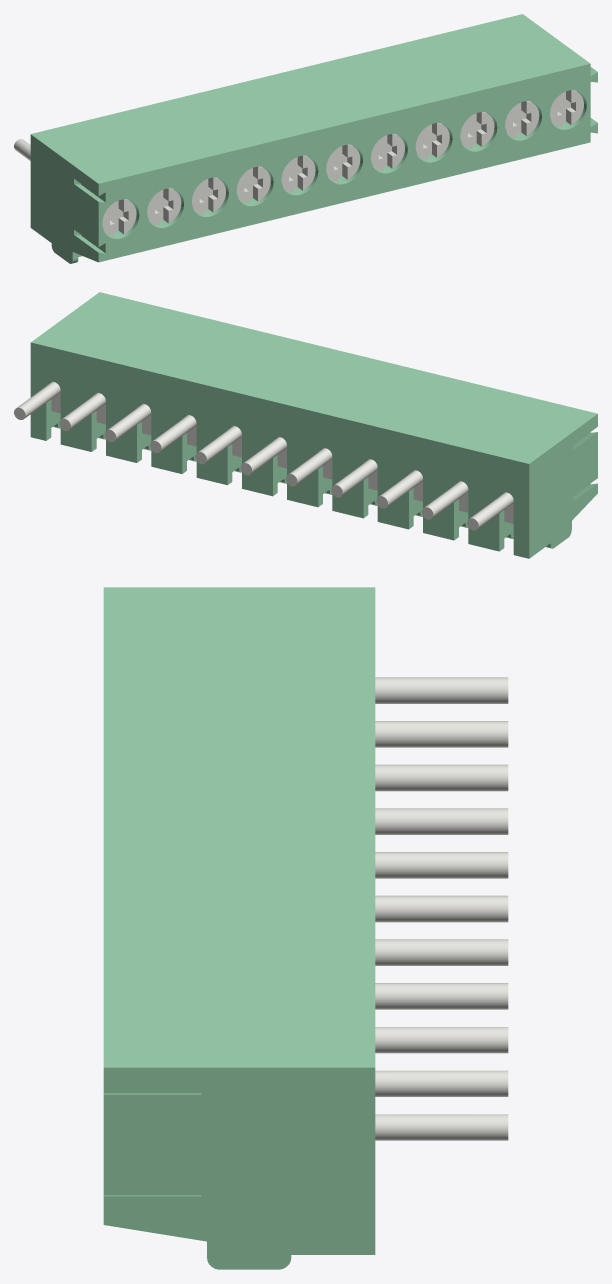
Rendered from TerminalBlock_Phoenix_PT-1,5-11-3.5-H_1x11_P3.50mm_Horizontal.glb.
3 renders of one model, top to bottom at view 1: azimuth 30°, elevation 25°; view 2: azimuth 150°, elevation 25°; view 3: azimuth 270°, elevation 25°, orthographic. The views are drawn at different scales.
Visible parts, largest first — view 1: Shape_IndexedFaceSet.002, Shape_IndexedFaceSet.071, Shape_IndexedFaceSet.001; view 2: Shape_IndexedFaceSet.002, Shape_IndexedFaceSet, Shape_IndexedFaceSet.001, Shape_IndexedFaceSet.242, Shape_IndexedFaceSet.247, Shape_IndexedFaceSet.212, Shape_IndexedFaceSet.202, Shape_IndexedFaceSet.207, Shape_IndexedFaceSet.227, Shape_IndexedFaceSet.232, Shape_IndexedFaceSet.197, Shape_IndexedFaceSet.217 (+2 smaller); view 3: Shape_IndexedFaceSet.002, Shape_IndexedFaceSet.003, Shape_IndexedFaceSet.222, Shape_IndexedFaceSet.237, Shape_IndexedFaceSet.197, Shape_IndexedFaceSet.212, Shape_IndexedFaceSet.217, Shape_IndexedFaceSet.227, Shape_IndexedFaceSet.232, Shape_IndexedFaceSet.242, Shape_IndexedFaceSet.247, Shape_IndexedFaceSet.202 (+3 smaller).
Boxes of the visible parts, <box> form: Shape_IndexedFaceSet.002: <box>31,14,590,183</box>; Shape_IndexedFaceSet.071: <box>98,64,597,262</box>; Shape_IndexedFaceSet.001: <box>30,134,98,263</box>; Shape_IndexedFaceSet.002: <box>31,292,597,463</box>; Shape_IndexedFaceSet: <box>30,342,529,558</box>; Shape_IndexedFaceSet.001: <box>529,414,597,558</box>; Shape_IndexedFaceSet.242: <box>425,481,468,517</box>; Shape_IndexedFaceSet.247: <box>470,492,513,528</box>; Shape_IndexedFaceSet.212: <box>153,415,196,451</box>; Shape_IndexedFaceSet.202: <box>62,392,105,429</box>; Shape_IndexedFaceSet.207: <box>108,403,151,440</box>; Shape_IndexedFaceSet.227: <box>289,448,332,484</box>; Shape_IndexedFaceSet.232: <box>334,459,377,495</box>; Shape_IndexedFaceSet.197: <box>17,381,60,417</box>; Shape_IndexedFaceSet.217: <box>198,426,241,462</box>; Shape_IndexedFaceSet.002: <box>103,587,375,1067</box>; Shape_IndexedFaceSet.003: <box>103,1067,375,1269</box>; Shape_IndexedFaceSet.222: <box>375,895,508,922</box>; Shape_IndexedFaceSet.237: <box>375,764,508,791</box>; Shape_IndexedFaceSet.197: <box>375,1114,508,1140</box>; Shape_IndexedFaceSet.212: <box>375,983,508,1009</box>; Shape_IndexedFaceSet.217: <box>375,939,508,965</box>; Shape_IndexedFaceSet.227: <box>375,852,508,878</box>; Shape_IndexedFaceSet.232: <box>375,808,508,834</box>; Shape_IndexedFaceSet.242: <box>375,721,508,747</box>; Shape_IndexedFaceSet.247: <box>375,677,508,703</box>; Shape_IndexedFaceSet.202: <box>375,1070,508,1096</box>.
Size of the model in its own units: 15.38 by 2.97 by 5.39.
